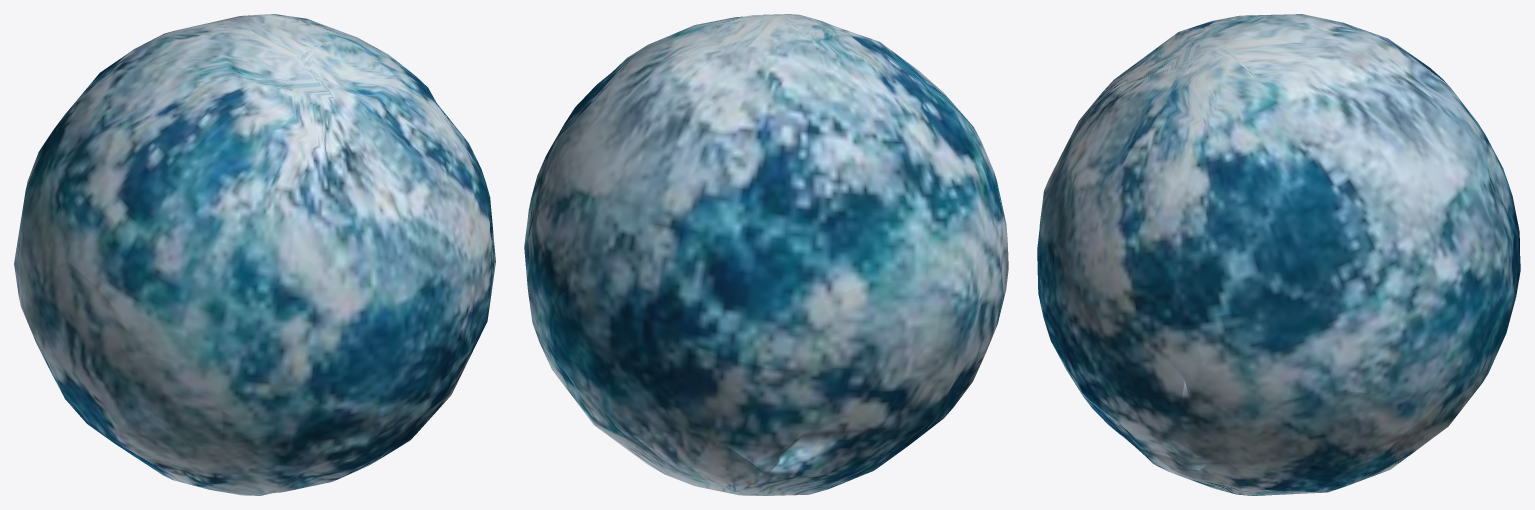
The model's file is planet_2-lod.glb.
The picture shows the model from 3 angles, left to right: view 1: azimuth 30°, elevation 25°; view 2: azimuth 150°, elevation 25°; view 3: azimuth 270°, elevation 25°; orthographic projection.
Parts seen in each view (by area): view 1: Mesh_0.001; view 2: Mesh_0.001; view 3: Mesh_0.001.
Boxes of the visible parts, left/top/right/bottom form: Mesh_0.001: left=14, top=14, right=495, bottom=495; Mesh_0.001: left=524, top=14, right=1008, bottom=495; Mesh_0.001: left=1037, top=14, right=1520, bottom=495.
Bounding box in the file's own units: 1.9 × 1.9 × 1.9.
1 material, 1 textured.
